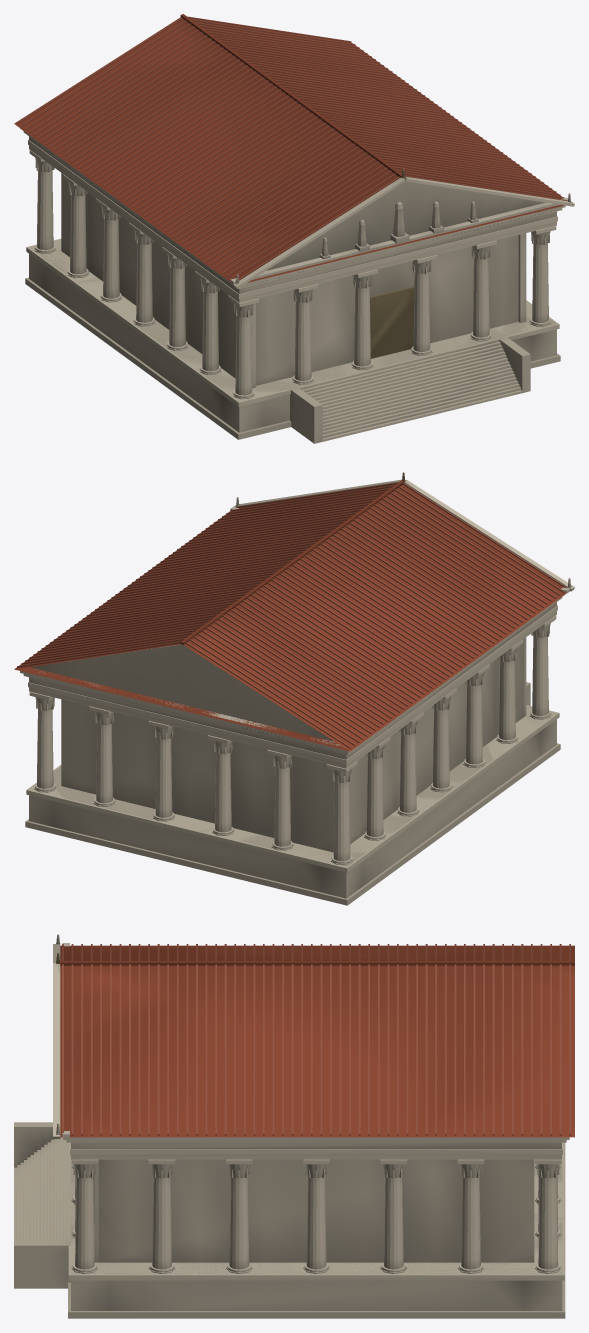
The model's file is temple-of-jupiter-republic.glb.
3 renders of one model, top to bottom at view 1: azimuth 30°, elevation 25°; view 2: azimuth 150°, elevation 25°; view 3: azimuth 270°, elevation 25°, orthographic. The views are drawn at different scales.
Parts seen in each view (by area): view 1: p2_roof, p1_columns, p0_podium; view 2: p2_roof, p1_columns, p0_podium; view 3: p2_roof, p1_columns, p0_podium.
Boxes of the visible parts, x1=… form: p2_roof: x1=14, y1=14, x2=574, y2=302; p1_columns: x1=29, y1=150, x2=556, y2=399; p0_podium: x1=25, y1=238, x2=560, y2=443; p2_roof: x1=14, y1=472, x2=574, y2=768; p1_columns: x1=29, y1=615, x2=556, y2=864; p0_podium: x1=25, y1=682, x2=560, y2=905; p2_roof: x1=53, y1=934, x2=574, y2=1159; p1_columns: x1=71, y1=1159, x2=561, y2=1273; p0_podium: x1=14, y1=1122, x2=565, y2=1318.
Size of the model in its own units: 57.56 by 38.23 by 70.82.
